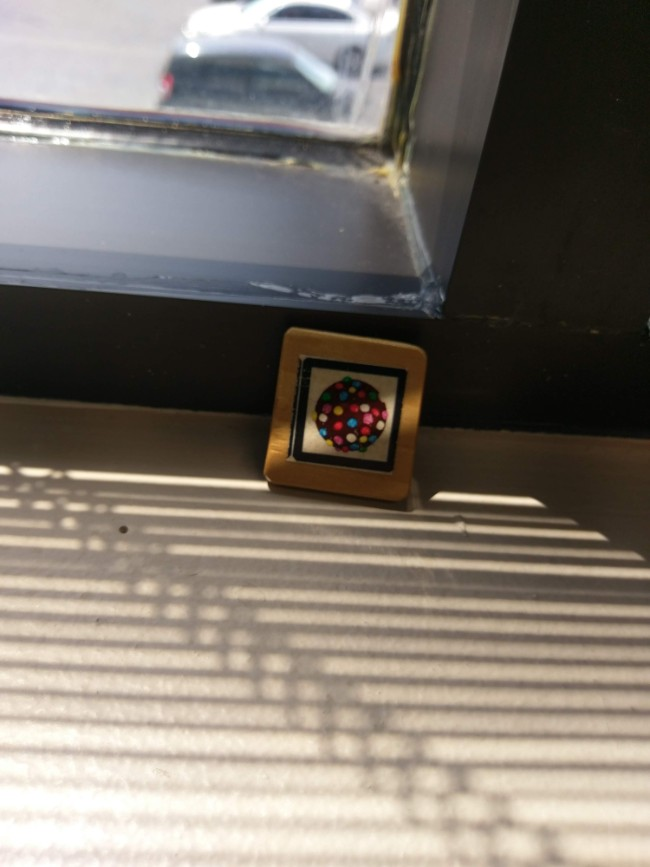cookie: (274, 349, 428, 478)
